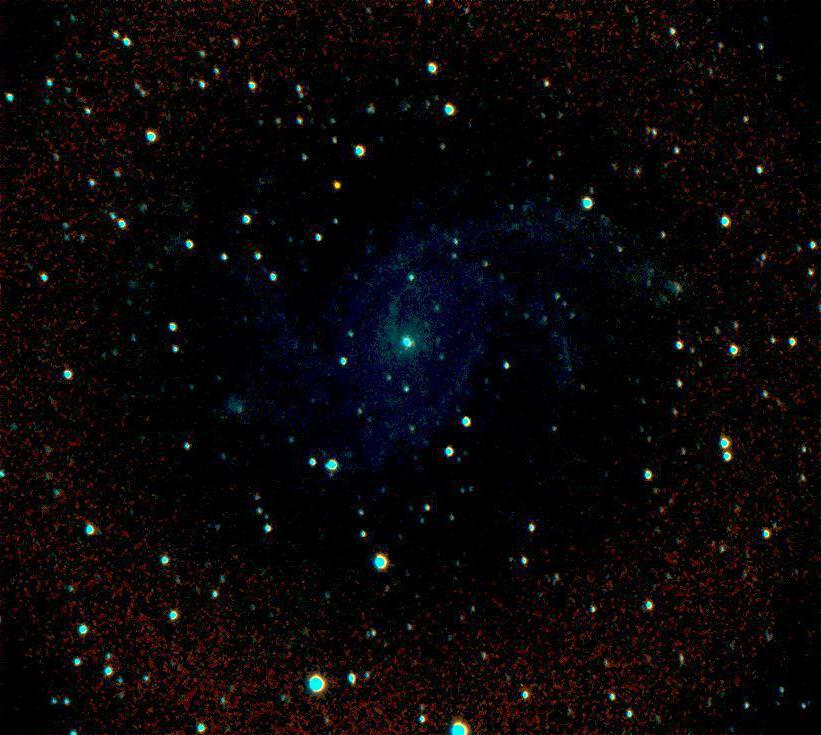star: (322, 169, 352, 199)
